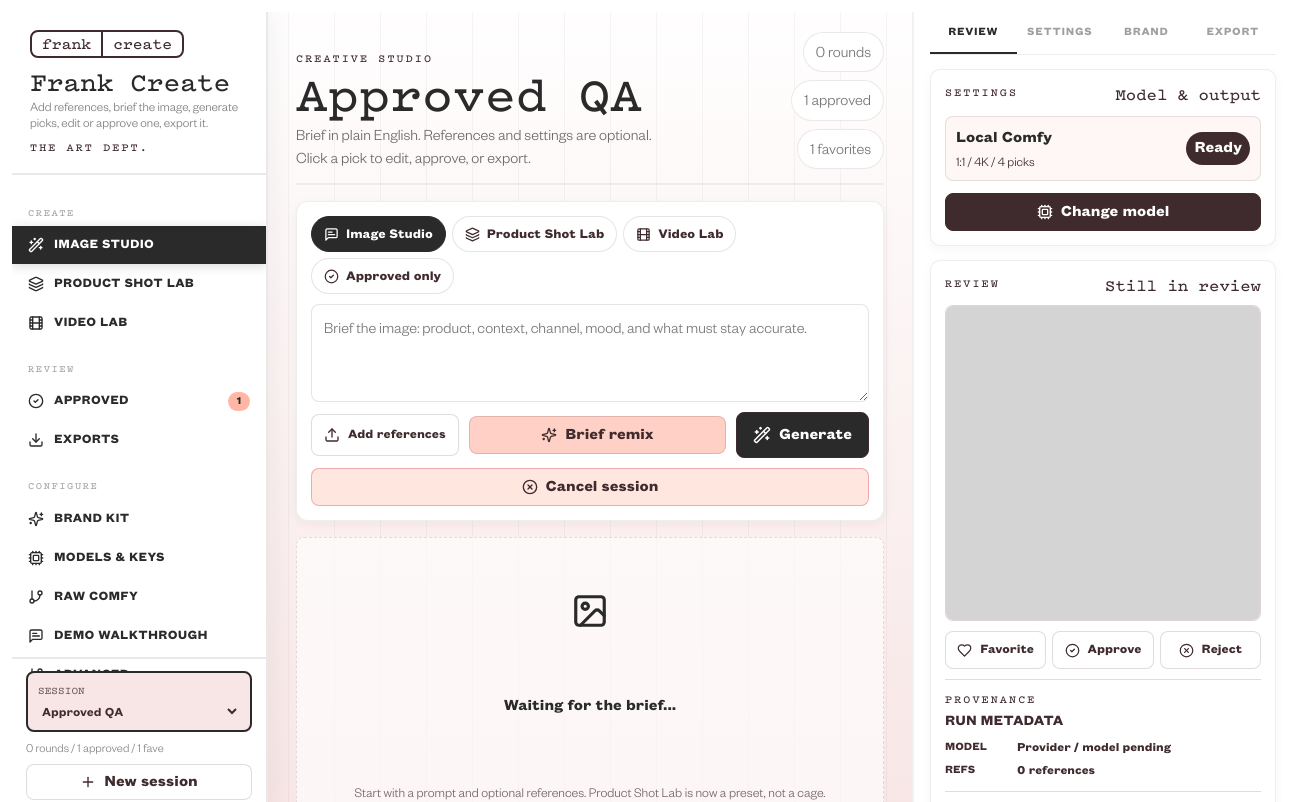
Test: App › uses Approved Hot mode to select an approved output
This screenshot has width=1292, height=802.
Expected: the heading "Still in review" is shown, x1=1105 y1=278 x2=1261 y2=295
Click the button "Approved only": (383, 276) x1=311 y1=258 x2=454 y2=294
(page scrolled)
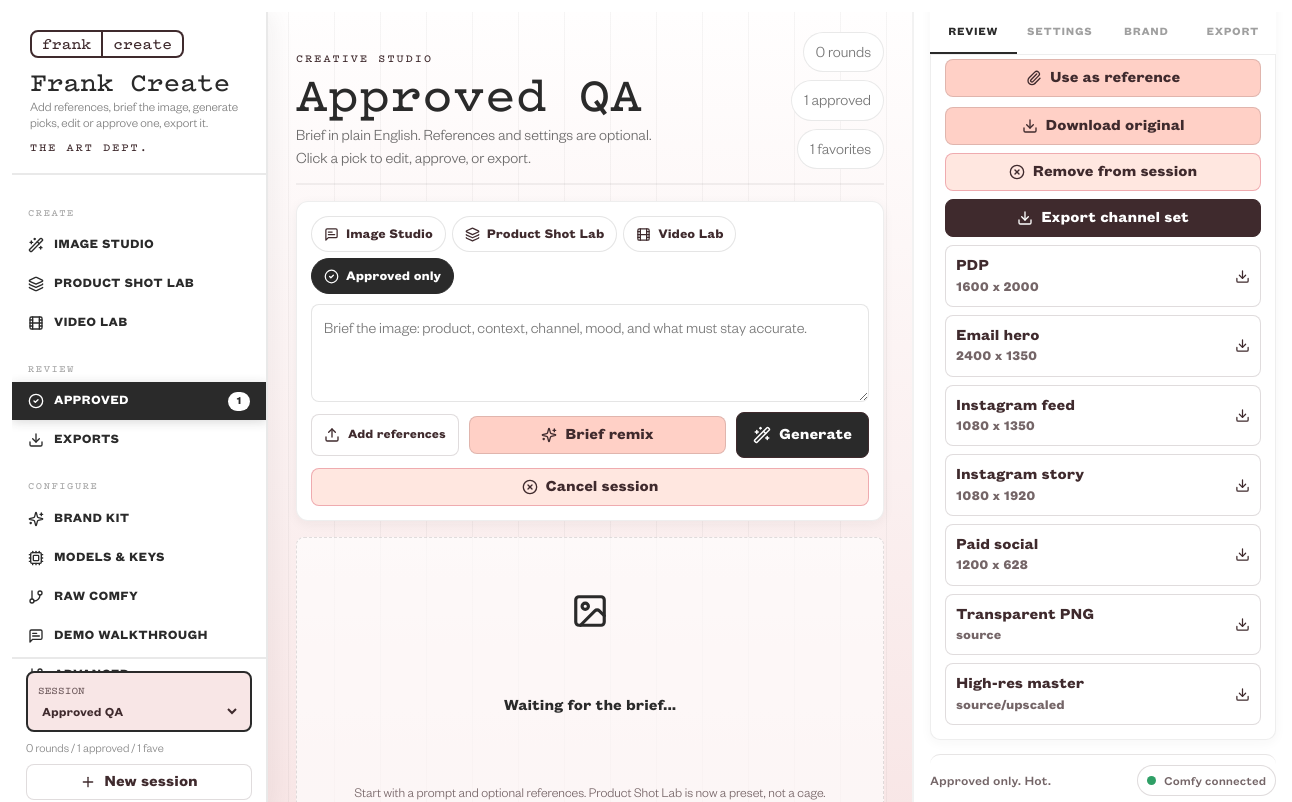
Now the text "Approved only. Hot." is shown, box x1=930 y1=772 x2=1051 y2=788
